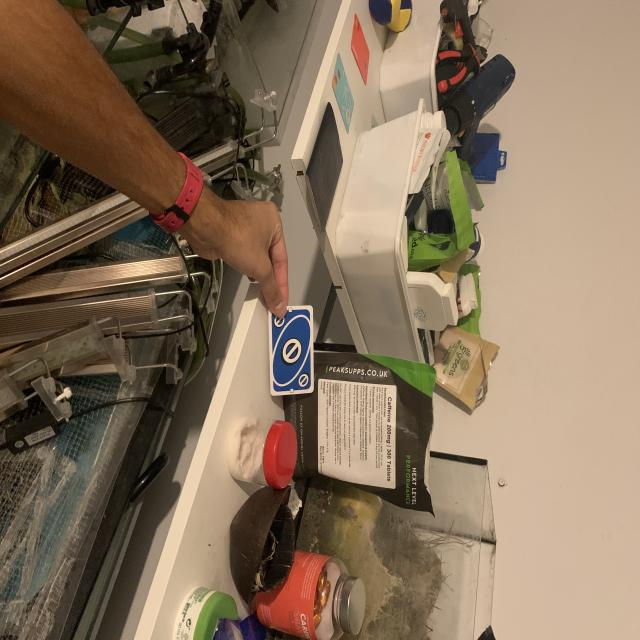lblueskip-20: (273, 314, 286, 328)
